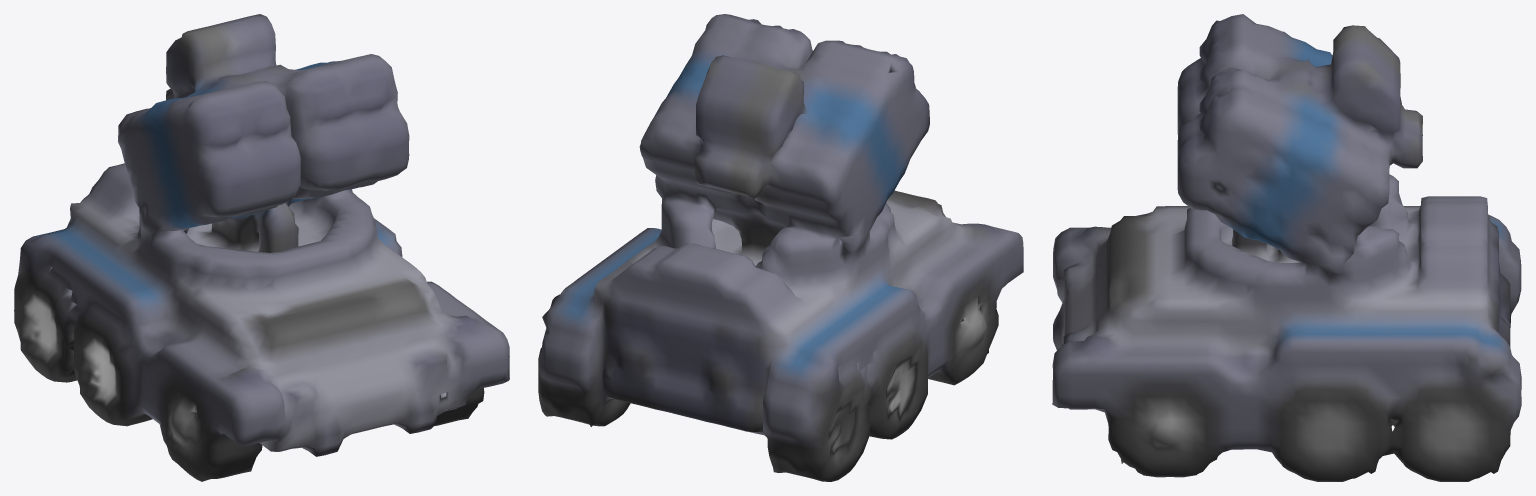
Rendered from ifv.glb.
3 views of the same model, side by side, from view 1: azimuth 30°, elevation 25°; view 2: azimuth 150°, elevation 25°; view 3: azimuth 270°, elevation 25° (orthographic). The views are drawn at different scales.
Visible parts, largest first — view 1: ifv; view 2: ifv; view 3: ifv.
Part boxes in pixels (left/top/right/bottom): ifv: left=14, top=14, right=509, bottom=481; ifv: left=538, top=14, right=1023, bottom=481; ifv: left=1052, top=14, right=1521, bottom=481.
Bounding box in the file's own units: 2.59 × 3.01 × 3.48.
